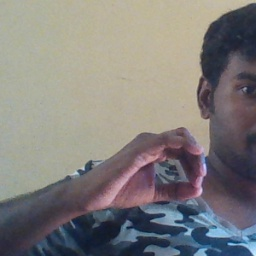O: (76, 125, 211, 215)
